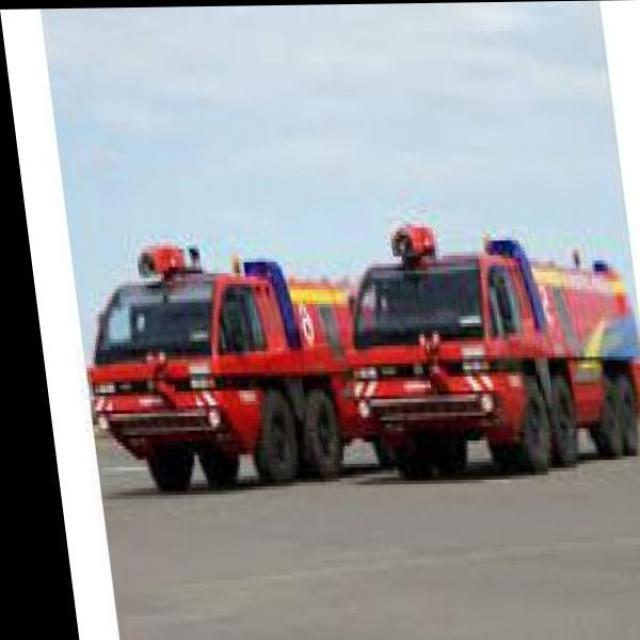emergency: (88, 242, 398, 493), (347, 222, 640, 477)
